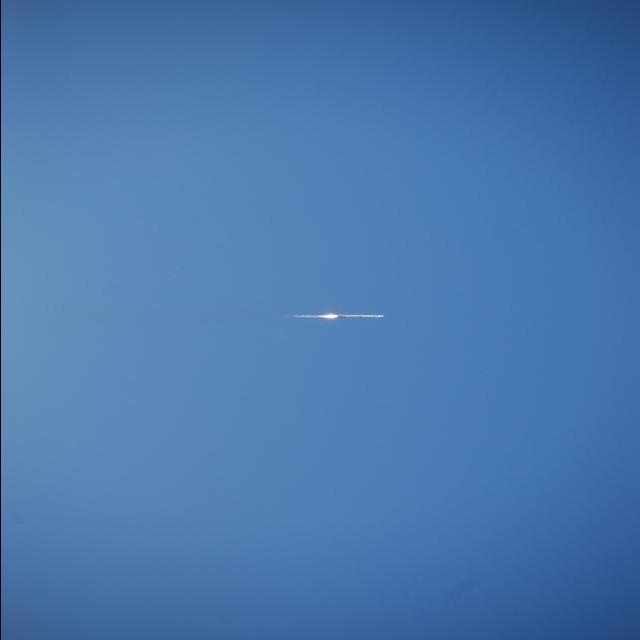missile: (333, 312, 385, 320)
